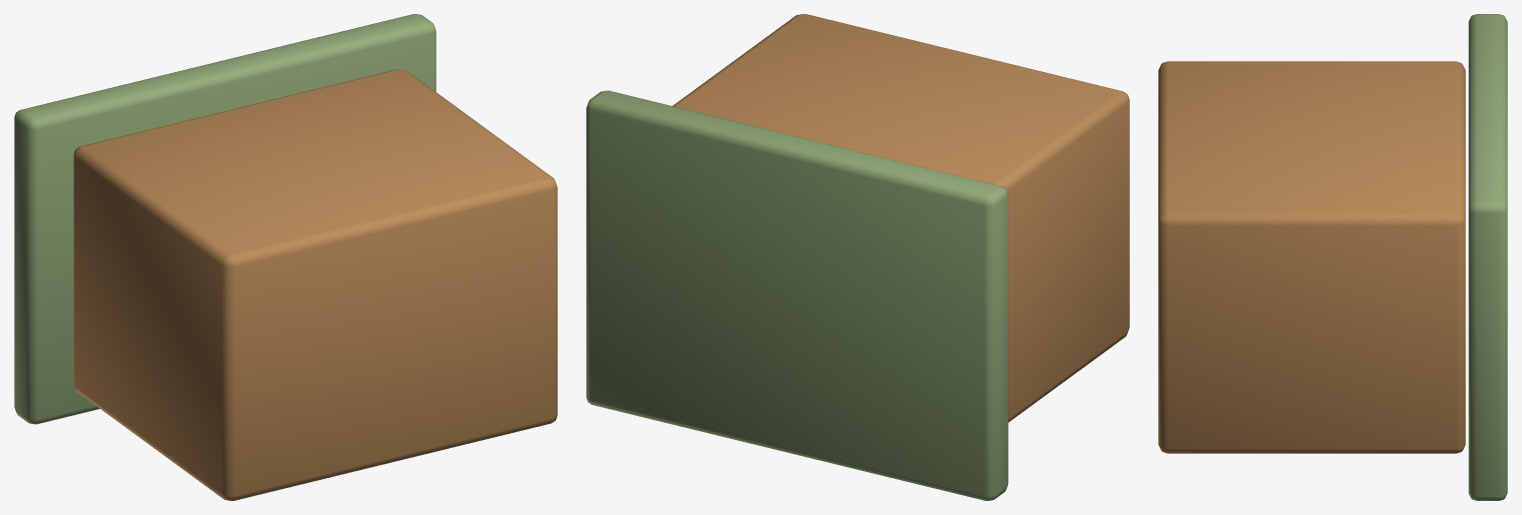
File: chicken_coop.glb
3 views of the same model, side by side, from view 1: azimuth 30°, elevation 25°; view 2: azimuth 150°, elevation 25°; view 3: azimuth 270°, elevation 25° (orthographic). The views are drawn at different scales.
Parts seen in each view (by area): view 1: Coop, Roof; view 2: Roof, Coop; view 3: Coop, Roof.
Boxes of the visible parts, left/top/right/bottom form: Coop: left=73, top=69, right=557, bottom=500; Roof: left=14, top=14, right=436, bottom=424; Roof: left=586, top=90, right=1008, bottom=500; Coop: left=673, top=14, right=1129, bottom=422; Coop: left=1158, top=61, right=1465, bottom=453; Roof: left=1468, top=14, right=1507, bottom=500.
Size of the model in its own units: 1.65 by 1.18 by 1.25.
